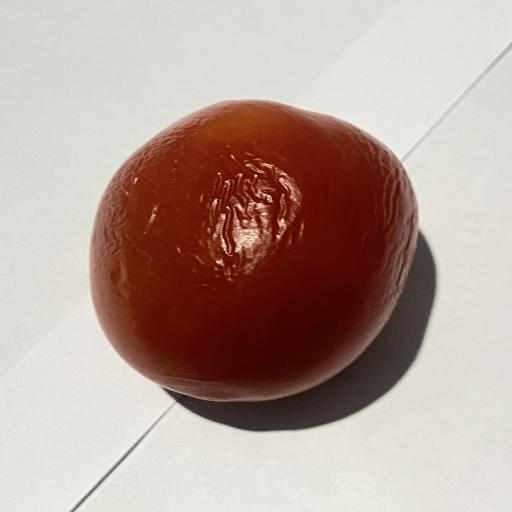spoiled: (90, 100, 418, 401)
